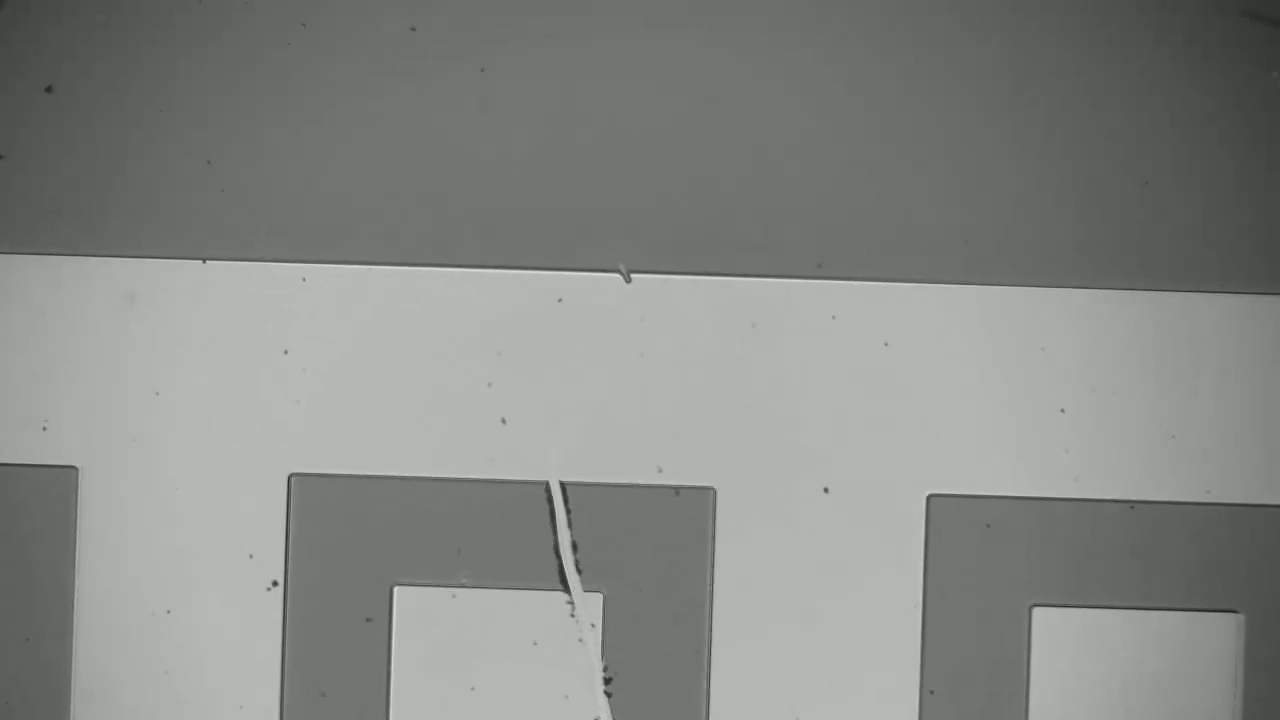Short_circuit: (513, 473, 611, 605)
